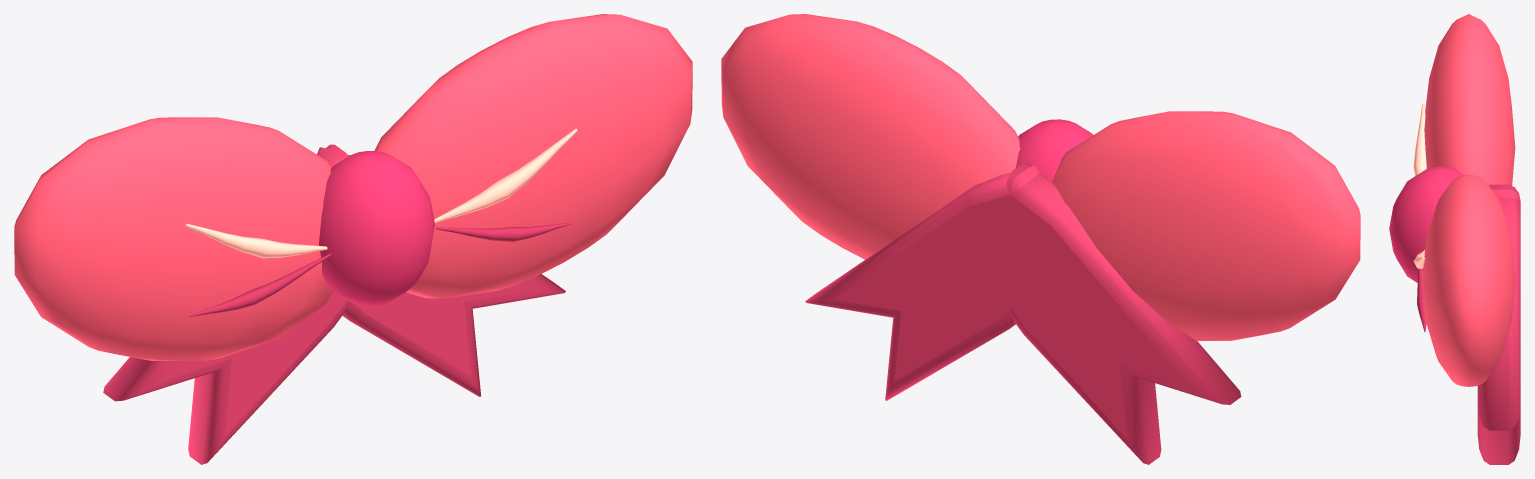
Rendered from cherry_bow.glb.
The picture shows the model from 3 angles, left to right: view 1: azimuth 30°, elevation 25°; view 2: azimuth 150°, elevation 25°; view 3: azimuth 270°, elevation 25°; orthographic projection. The views are drawn at different scales.
Parts seen in each view (by area): view 1: Cherry Ribbon; view 2: Cherry Ribbon; view 3: Cherry Ribbon.
Boxes of the visible parts, bbox=[...] form: Cherry Ribbon: bbox=[14, 14, 692, 464]; Cherry Ribbon: bbox=[721, 14, 1360, 464]; Cherry Ribbon: bbox=[1389, 14, 1520, 464].
Bounding box in the file's own units: 1 × 0.5187 × 0.208.
